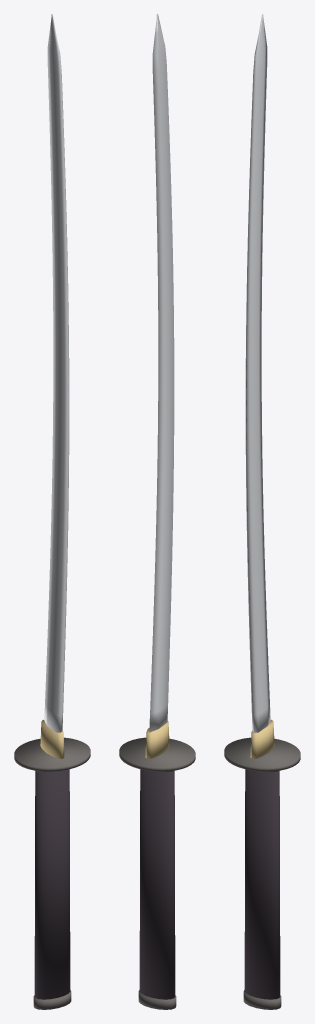
File: Miyamoto_Katana.fbx
3 renders of one model, left to right at view 1: azimuth 30°, elevation 25°; view 2: azimuth 150°, elevation 25°; view 3: azimuth 330°, elevation 25°, orthographic.
Visible parts, largest first — view 1: Miyamoto_Katana; view 2: Miyamoto_Katana; view 3: Miyamoto_Katana.
Part boxes in pixels (x1=…): Miyamoto_Katana: x1=14, y1=14, x2=90, y2=1009; Miyamoto_Katana: x1=119, y1=14, x2=195, y2=1009; Miyamoto_Katana: x1=224, y1=14, x2=300, y2=1009.
Bounding box in the file's own units: 4.1 × 57 × 3.65.
